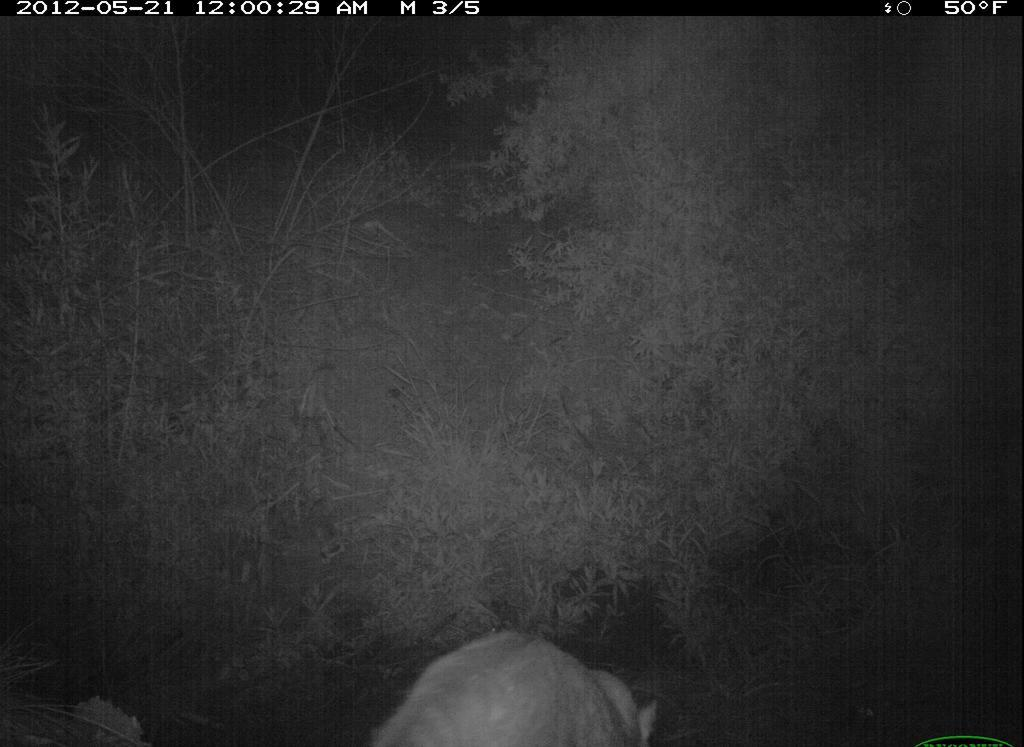cat: (360, 626, 666, 745)
